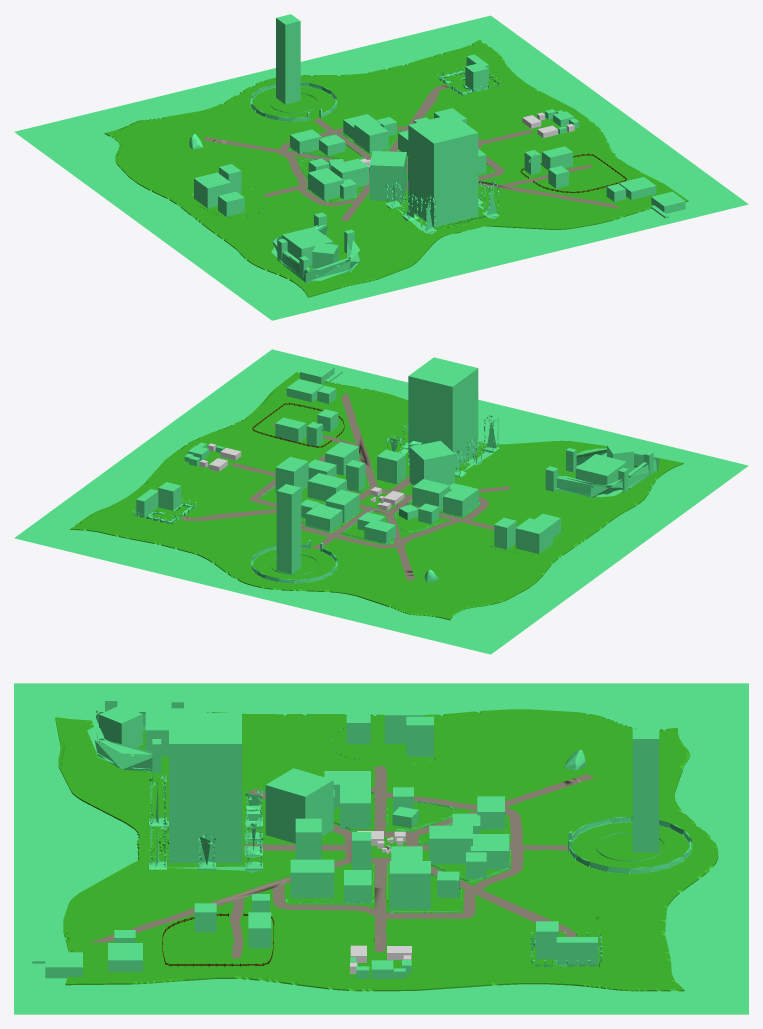
3 renders of one model, top to bottom at view 1: azimuth 30°, elevation 25°; view 2: azimuth 150°, elevation 25°; view 3: azimuth 270°, elevation 25°, orthographic. The views are drawn at different scales.
Parts seen in each view (by area): view 1: Cube.003, COL_Water, COL_Temple_SecondAge_Level2, path, COL_House_3.001, COL_Barracks_SecondAge_Level3, COL_Wall_SecondAge.002, COL_WonderWalls_SecondAge, COL_Barracks_FirstAge_Level2.001, COL_Blacksmith, COL_Houses_SecondAge_2_Level2.001, COL_Stable.001 (+9 smaller); view 2: Cube.003, COL_Water, COL_Temple_SecondAge_Level2, path, COL_House_3.001, COL_Wall_SecondAge.002, COL_Barracks_SecondAge_Level3, COL_WonderWalls_SecondAge, COL_Barracks_FirstAge_Level2.001, COL_Blacksmith, COL_Inn, COL_Stable.001 (+14 smaller); view 3: Cube.003, COL_Water, COL_Temple_SecondAge_Level2, path, COL_Barracks_SecondAge_Level3, COL_House_3.001, COL_WonderWalls_SecondAge, COL_Inn, COL_Houses_SecondAge_2_Level2, COL_Wall_SecondAge.002, COL_Houses_SecondAge_2_Level2.001, COL_House_2.001 (+20 smaller).
Part boxes in pixels (left/top/right/bottom): Cube.003: left=104, top=39, right=688, bottom=297; COL_Water: left=14, top=15, right=748, bottom=320; COL_Temple_SecondAge_Level2: left=408, top=114, right=478, bottom=226; path: left=204, top=85, right=620, bottom=221; COL_House_3.001: left=276, top=14, right=300, bottom=104; COL_Barracks_SecondAge_Level3: left=369, top=151, right=406, bottom=201; COL_Wall_SecondAge.002: left=271, top=224, right=360, bottom=283; COL_WonderWalls_SecondAge: left=385, top=179, right=499, bottom=234; COL_Barracks_FirstAge_Level2.001: left=282, top=227, right=333, bottom=265; COL_Blacksmith: left=194, top=172, right=231, bottom=208; COL_Houses_SecondAge_2_Level2.001: left=354, top=120, right=388, bottom=153; COL_Stable.001: left=308, top=168, right=343, bottom=200; Cube.003: left=70, top=372, right=683, bottom=620; COL_Water: left=14, top=349, right=748, bottom=654; COL_Temple_SecondAge_Level2: left=408, top=357, right=478, bottom=468; path: left=181, top=393, right=509, bottom=580; COL_House_3.001: left=276, top=484, right=301, bottom=574; COL_Wall_SecondAge.002: left=556, top=448, right=659, bottom=498; COL_Barracks_SecondAge_Level3: left=409, top=441, right=454, bottom=485; COL_WonderWalls_SecondAge: left=385, top=415, right=499, bottom=477; COL_Barracks_FirstAge_Level2.001: left=575, top=454, right=626, bottom=494; COL_Blacksmith: left=515, top=518, right=552, bottom=553; COL_Inn: left=275, top=456, right=308, bottom=492; COL_Stable.001: left=443, top=484, right=478, bottom=516; Cube.003: left=55, top=709, right=718, bottom=991; COL_Water: left=14, top=683, right=748, bottom=1014; COL_Temple_SecondAge_Level2: left=169, top=713, right=241, bottom=862; path: left=90, top=766, right=593, bottom=958; COL_Barracks_SecondAge_Level3: left=265, top=768, right=333, bottom=843; COL_House_3.001: left=632, top=728, right=659, bottom=852; COL_WonderWalls_SecondAge: left=148, top=773, right=263, bottom=872; COL_Inn: left=389, top=861, right=430, bottom=909; COL_Houses_SecondAge_2_Level2: left=290, top=859, right=334, bottom=898; COL_Wall_SecondAge.002: left=87, top=709, right=207, bottom=771; COL_Houses_SecondAge_2_Level2.001: left=429, top=825, right=472, bottom=864; COL_House_2.001: left=99, top=705, right=142, bottom=747.
Bounding box in the file's own units: 320 × 56.78 × 300.
Materials: 2 (1 with a texture image).
